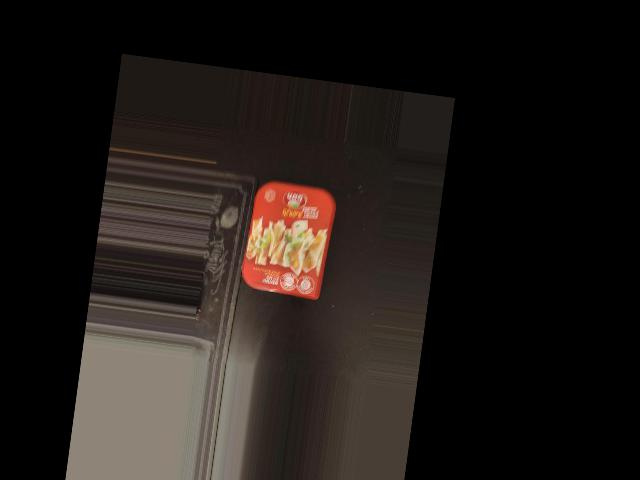cheese: (239, 176, 340, 298)
